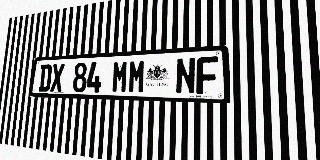4: (86, 62, 103, 93)
8: (72, 62, 88, 92)
D: (38, 64, 52, 92)
F: (196, 56, 218, 95)
M: (111, 60, 129, 93), (128, 60, 146, 93)
N: (175, 57, 196, 94)
X: (50, 63, 65, 92)
